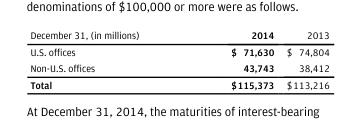table: (29, 28, 328, 90)
table column: (29, 28, 184, 90), (184, 28, 279, 90), (279, 28, 328, 90)
table column header: (29, 28, 328, 42)
table row: (29, 42, 328, 59), (29, 59, 328, 75), (29, 75, 328, 90), (29, 28, 328, 42)
